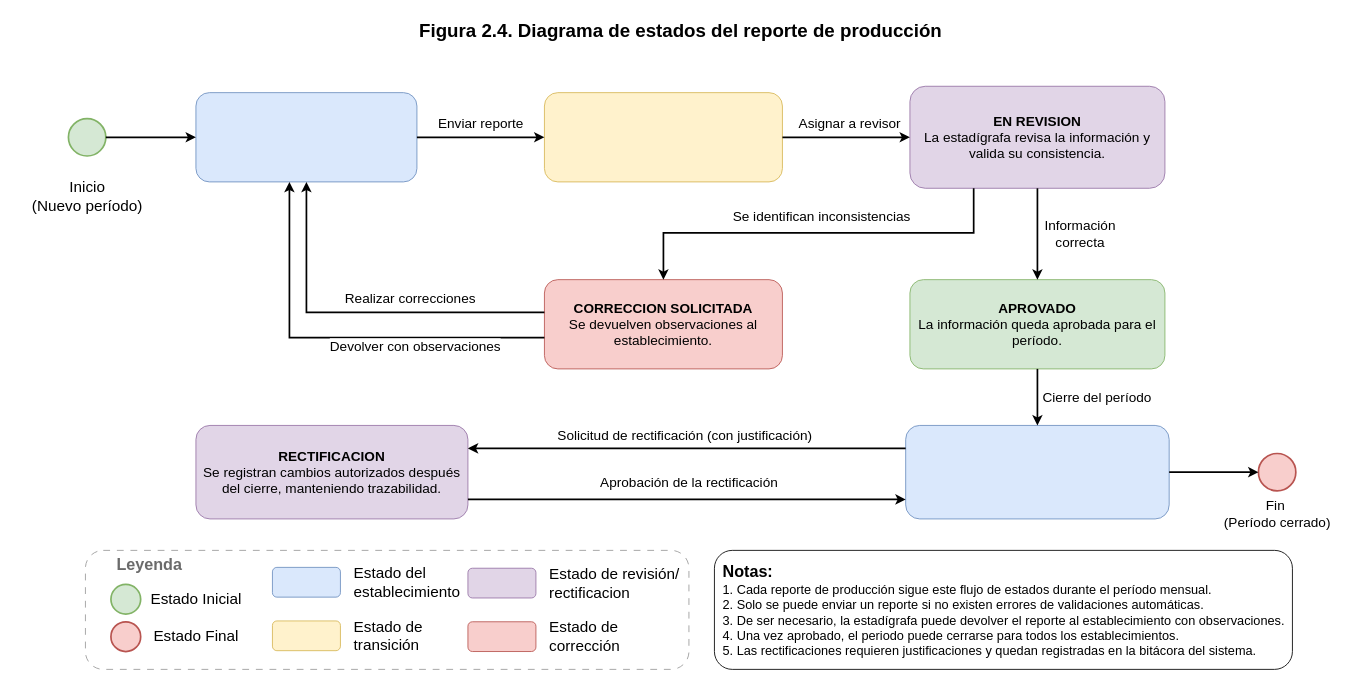
Some shapes in this 1353 by 684 pixel diagram are drawn without their labels. The centre of each missing label's shape, as x and y in pixels:
BORRADOR El establecimiento registra su producción de vacunación.: the point at 306,137
CERRADO El período queda cerrado. No se permiten modificaciones regulares.: the point at 1037,472
ENVIADO La información se envía a la DDRISS para revisión.: the point at 663,137
